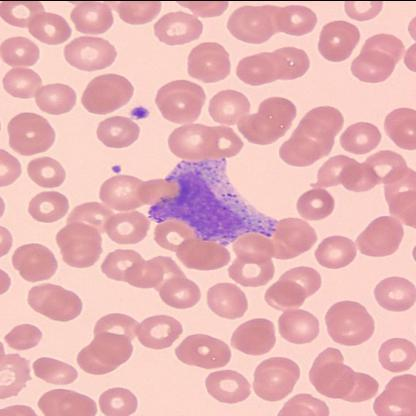Promyelocyte: (144, 157, 276, 244)
